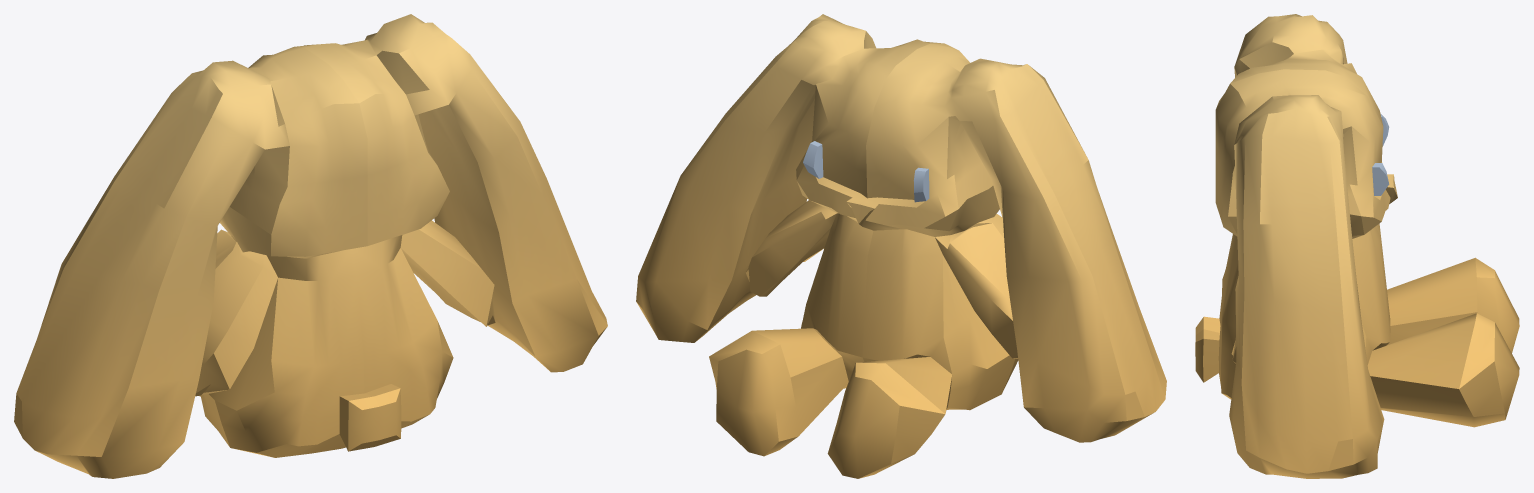
The model's file is bunny.fbx.
The picture shows the model from 3 angles, left to right: view 1: azimuth 30°, elevation 25°; view 2: azimuth 150°, elevation 25°; view 3: azimuth 270°, elevation 25°; orthographic projection. The views are drawn at different scales.
Parts seen in each view (by area): view 1: bunny; view 2: bunny; view 3: bunny.
Boxes of the visible parts, box(x1,y1,x2,y2) form: bunny: box(14, 14, 607, 478); bunny: box(636, 14, 1166, 478); bunny: box(1195, 14, 1519, 478).
Size of the model in its own units: 276 by 186 by 159.
